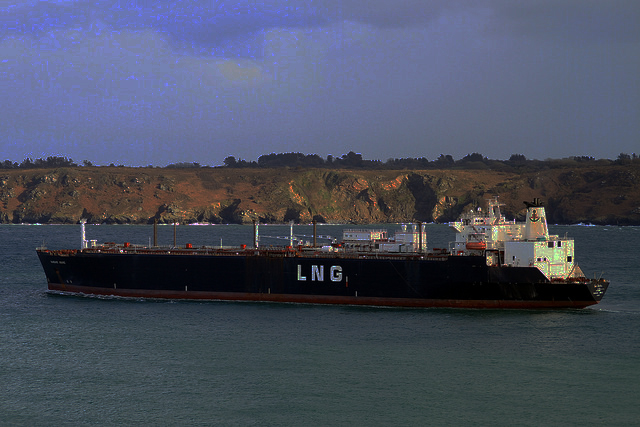LNG_ship: (35, 196, 610, 307)
